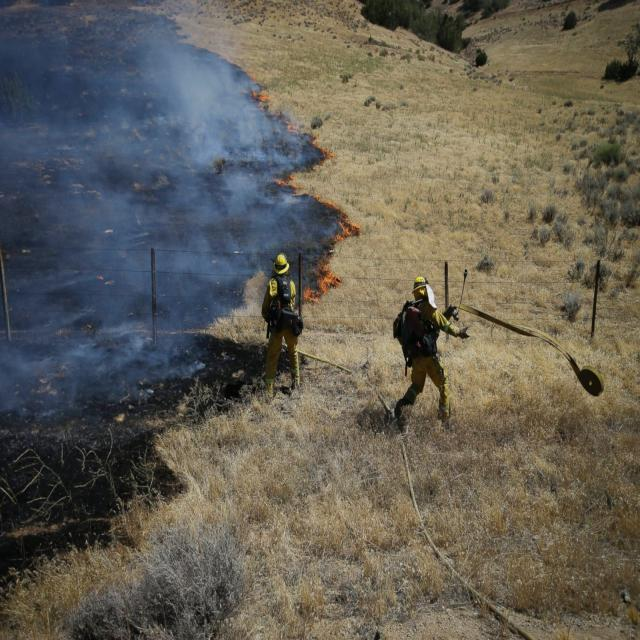Fire: (316, 191, 368, 250), (299, 249, 346, 313)
Smoke: (129, 0, 302, 172), (0, 325, 212, 401), (105, 226, 266, 290), (226, 167, 308, 210)
